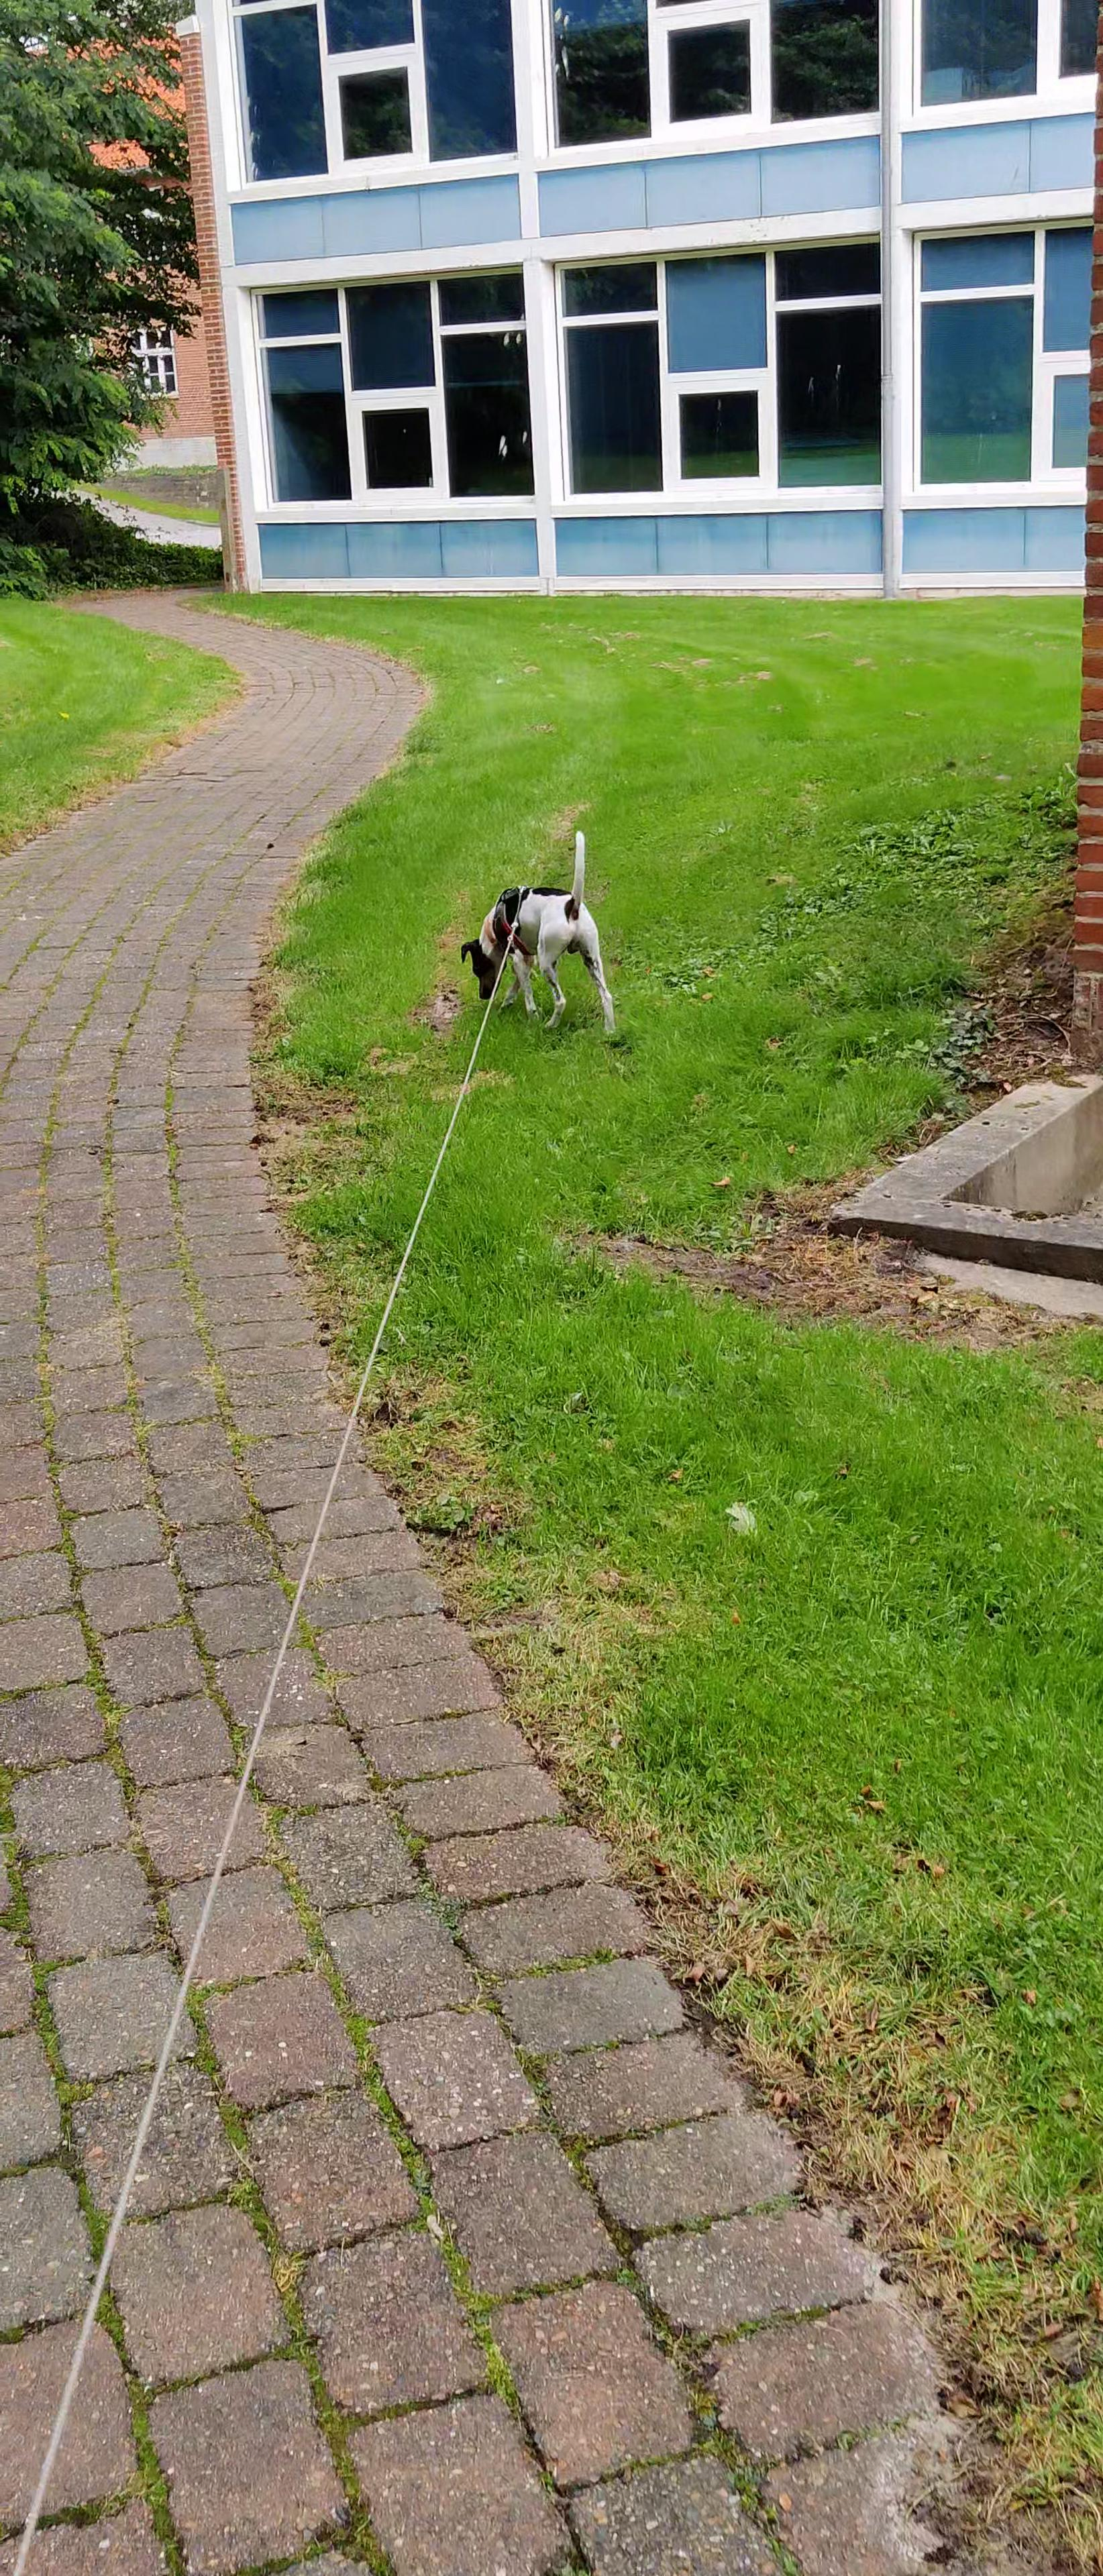Dog: (457, 828, 625, 1038)
